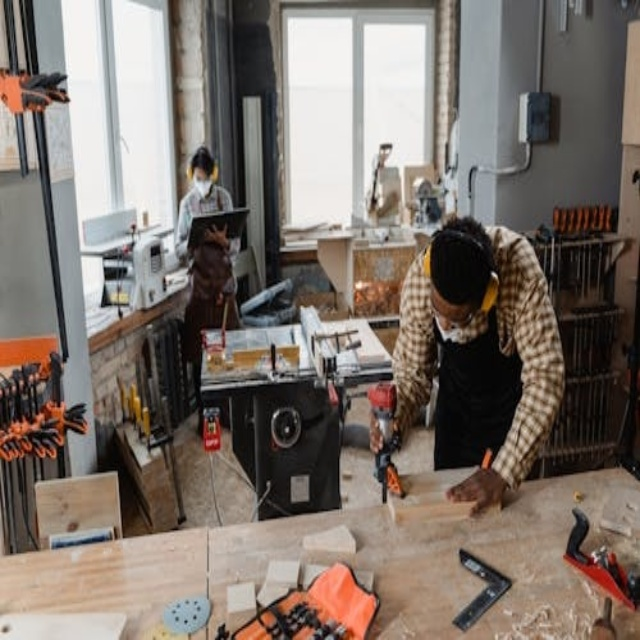Gafas: (431, 294, 484, 333)
Mascara: (433, 307, 475, 343), (194, 176, 214, 199)
Sin_guantes: (446, 467, 506, 516), (369, 407, 395, 455), (204, 225, 231, 252)
